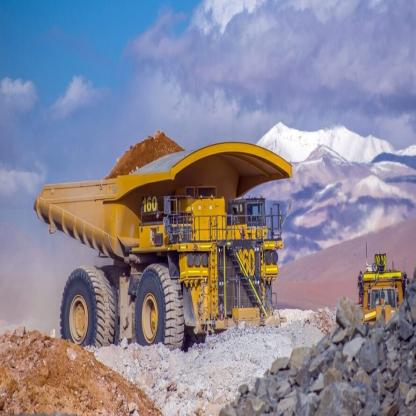dump_truck: (36, 112, 292, 346)
